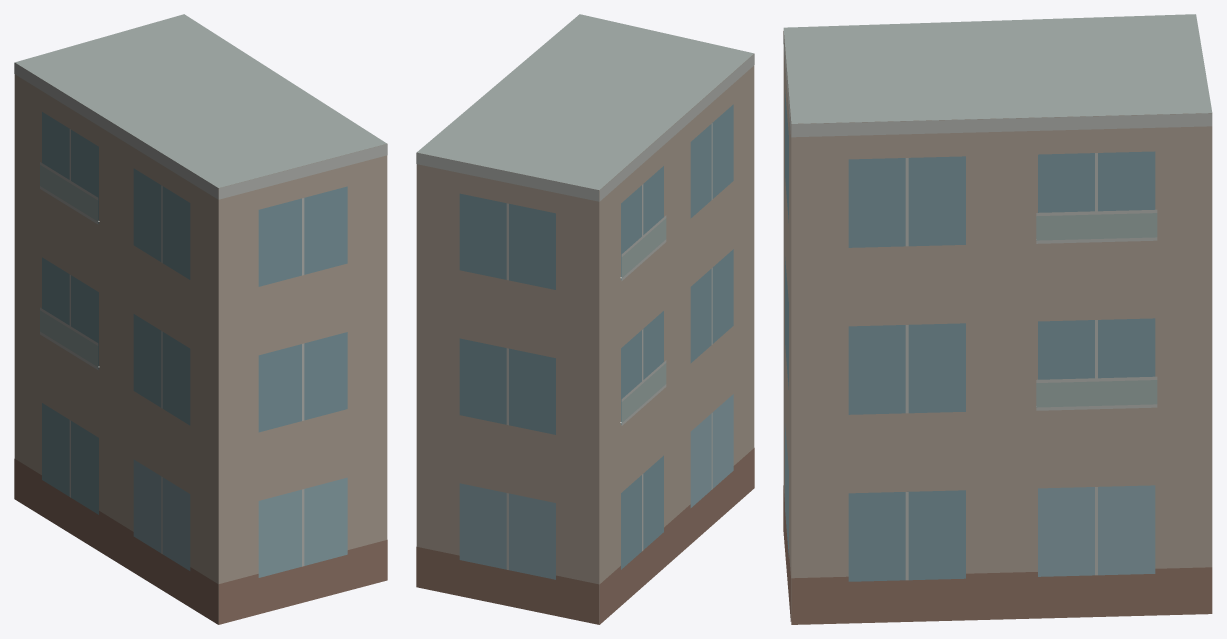
The model's file is survey-upis-32634509.glb.
The picture shows the model from 3 angles, left to right: view 1: azimuth 30°, elevation 25°; view 2: azimuth 150°, elevation 25°; view 3: azimuth 270°, elevation 25°; orthographic projection. The views are drawn at different scales.
Parts seen in each view (by area): view 1: survey-upis-32634509.tmp; view 2: survey-upis-32634509.tmp; view 3: survey-upis-32634509.tmp.
Boxes of the visible parts, x1,y1,x2,y2 form: survey-upis-32634509.tmp: (14,14,387,624); survey-upis-32634509.tmp: (416,14,754,624); survey-upis-32634509.tmp: (783,14,1212,624).
Size of the model in its own units: 4.32 by 9.15 by 7.11.
